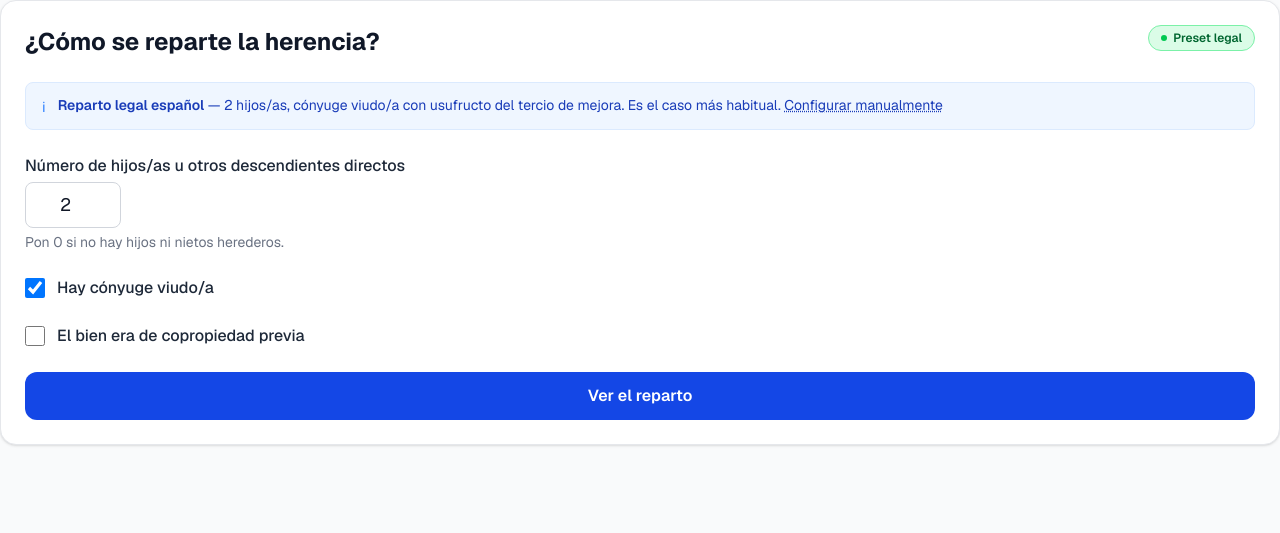
Test: SimulatorForm › shows error for out-of-range descendientes
Replace the text in the number field labelled "Número de hijos/as u otros descendientes directos" with "25" at (73, 205), box [25,182,121,228]
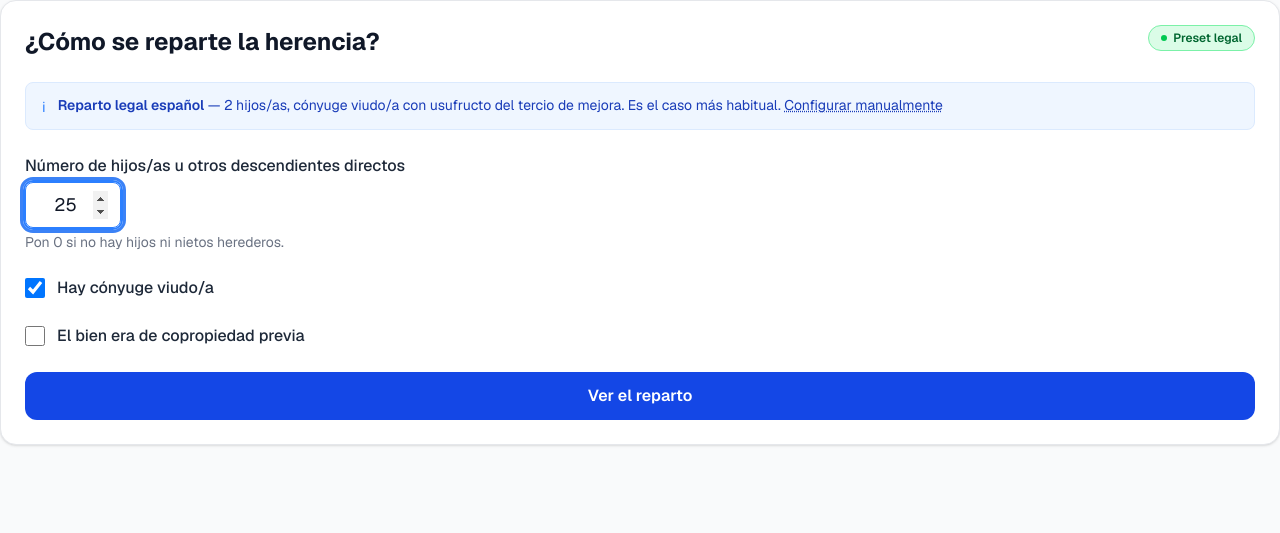
Click the button "Ver el reparto".
click(640, 396)  # box [25,372,1255,420]
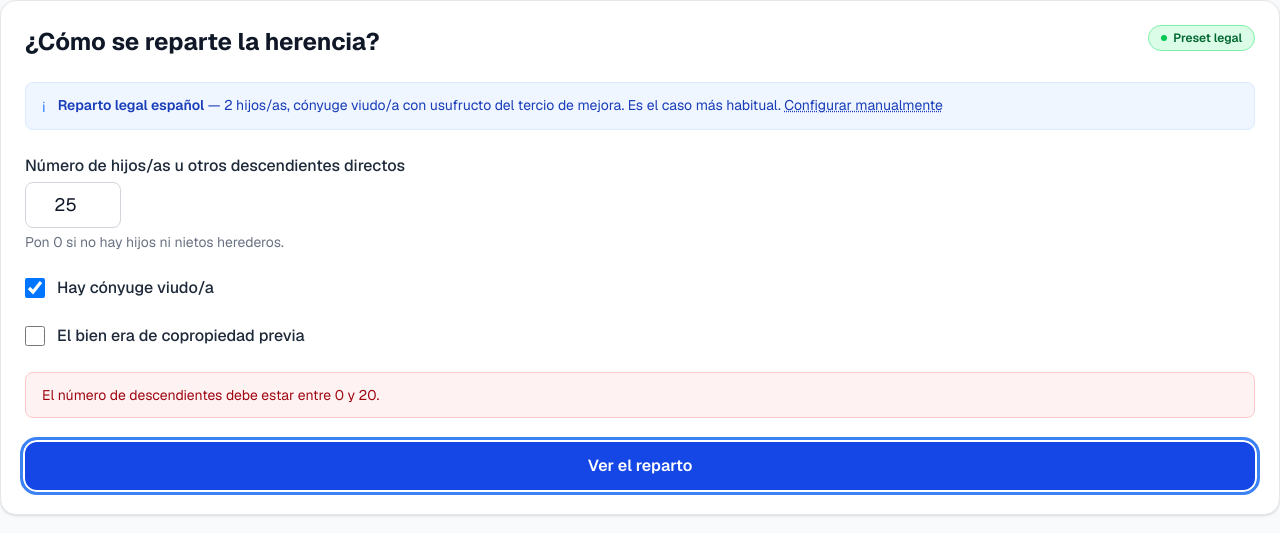
Now the message shows "entre 0 y 20", box [42,386,379,404]
